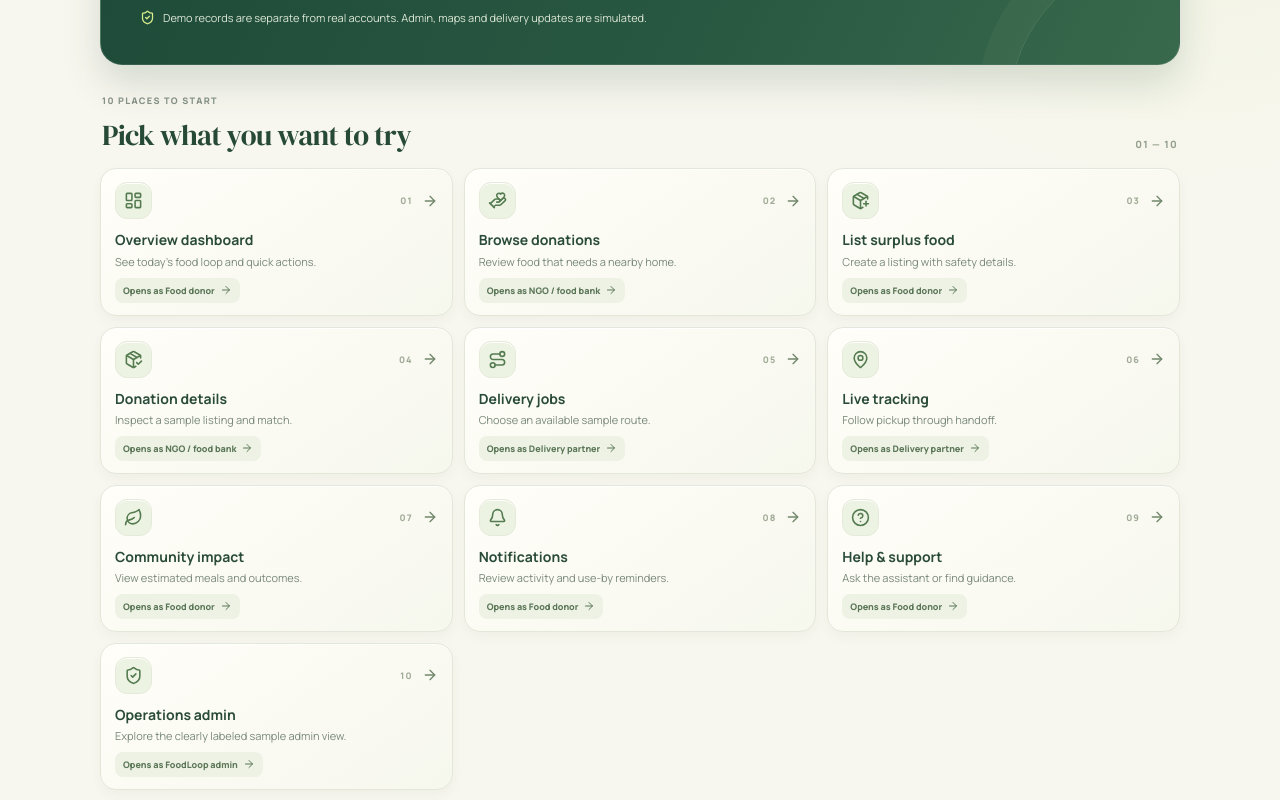
Test: FoodLoop screen selection › opens Live tracking with the partner demo identity
The image size is (1280, 800).
(page scrolled)
Click the button with aria-label "Open Live tracking as Delivery partner": [861, 359] box [827,326,1180,474]
(page scrolled)
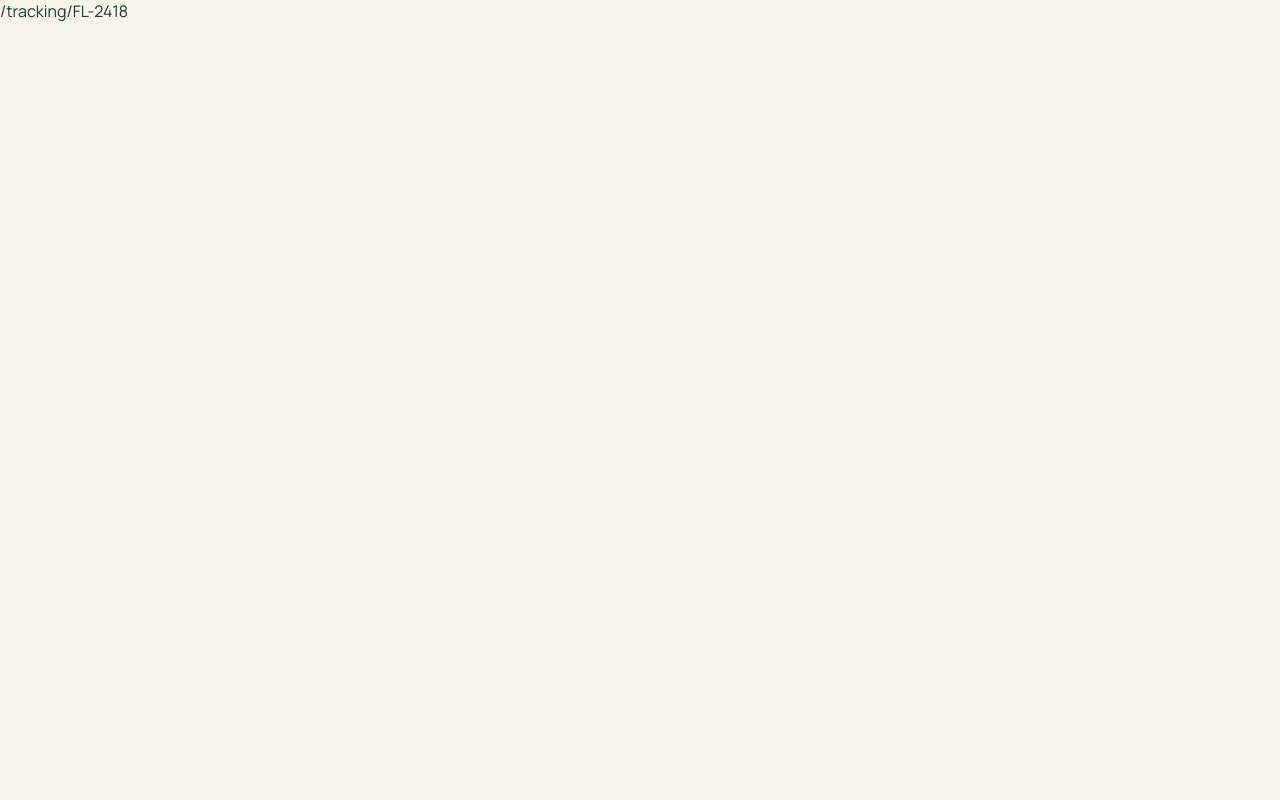
Expected: the text with test id "current-route" reads "/tracking/FL-2418", [0,0,128,22]
